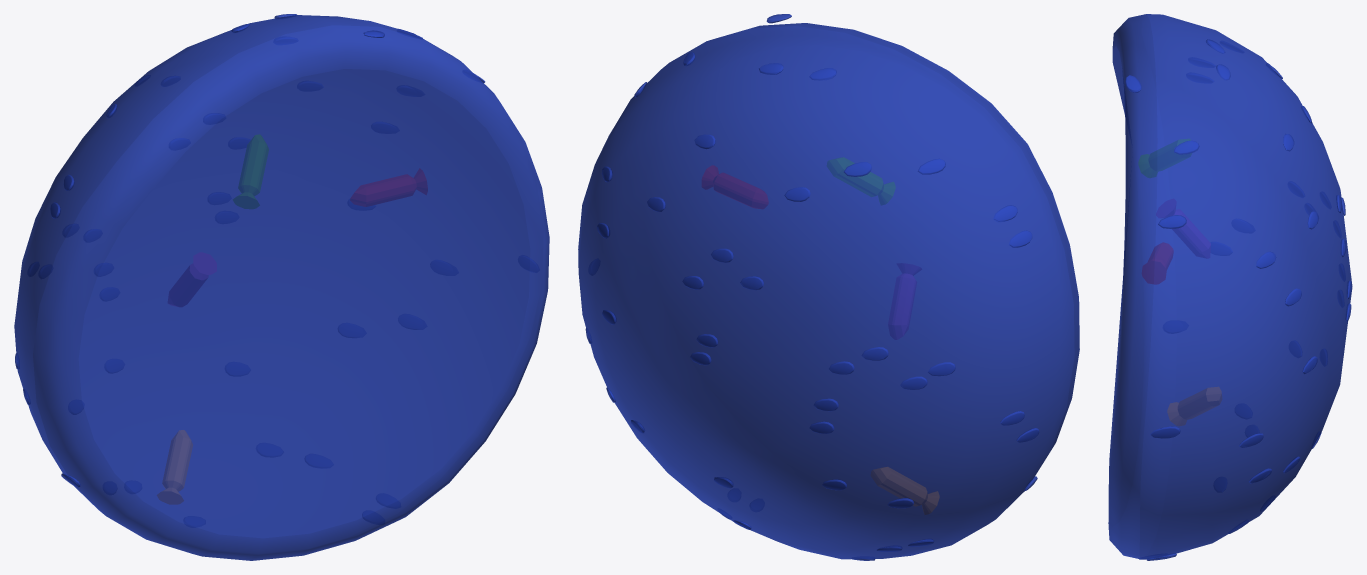
File: Burger_skin_WATER TOP.fbx
3 views of the same model, side by side, from view 1: azimuth 30°, elevation 25°; view 2: azimuth 150°, elevation 25°; view 3: azimuth 270°, elevation 25° (orthographic). The views are drawn at different scales.
Visible parts, largest first — view 1: Burger Bread A; view 2: Burger Bread A; view 3: Burger Bread A.
Boxes of the visible parts, box(x1,y1,x2,y2) form: Burger Bread A: box(14, 14, 549, 560); Burger Bread A: box(578, 14, 1079, 560); Burger Bread A: box(1108, 14, 1352, 560).
Size of the model in its own units: 74.61 by 74.61 by 33.38.
